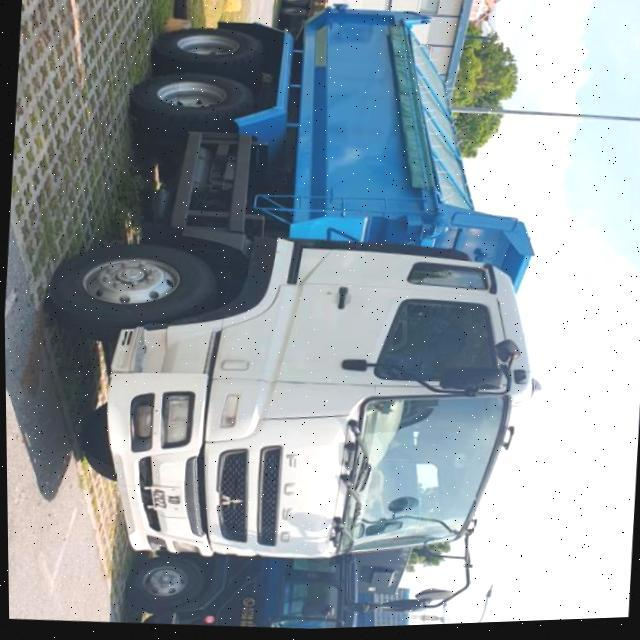truck: (26, 0, 562, 634)
